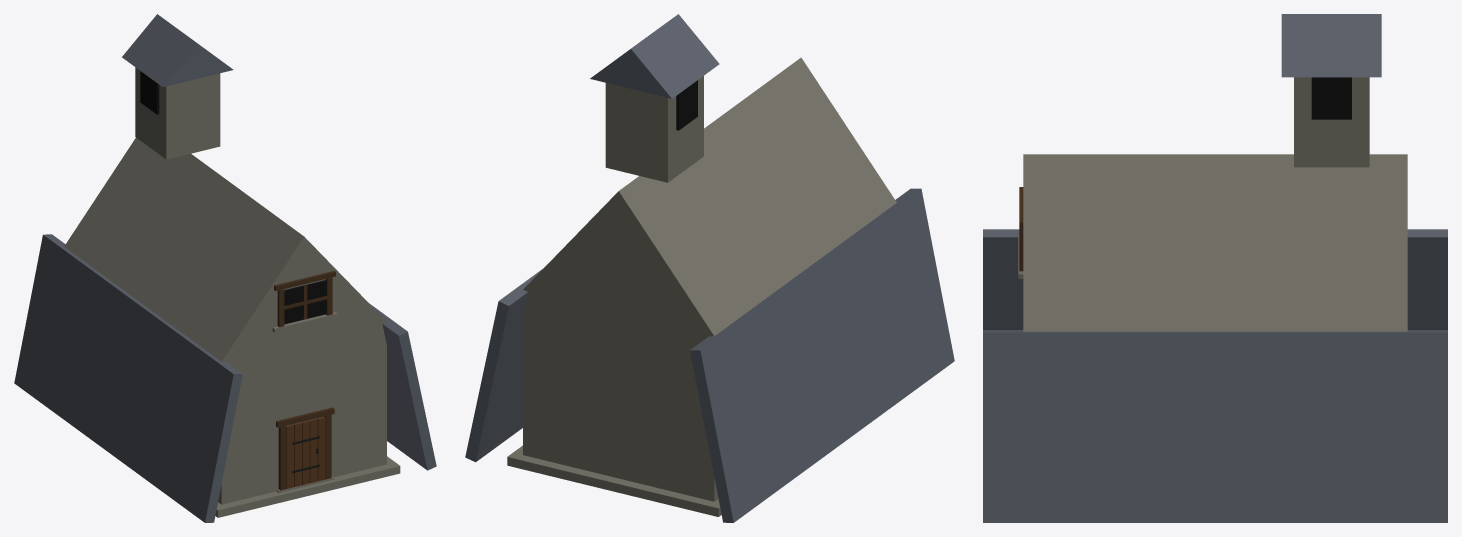
Rendered from house_chapel.obj.
The picture shows the model from 3 angles, left to right: view 1: azimuth 30°, elevation 25°; view 2: azimuth 150°, elevation 25°; view 3: azimuth 270°, elevation 25°; orthographic projection. The views are drawn at different scales.
Parts seen in each view (by area): view 1: house_chapel walls, house_chapel roof slope, house_chapel bellcote, house_chapel bellcote roof, house_chapel door plank, house_chapel footing, house_chapel east light recess, house_chapel door jamb, house_chapel bellcote opening, house_chapel east light jamb; view 2: house_chapel walls, house_chapel roof slope, house_chapel bellcote, house_chapel bellcote roof, house_chapel footing, house_chapel bellcote opening; view 3: house_chapel roof slope, house_chapel walls, house_chapel bellcote roof, house_chapel bellcote, house_chapel bellcote opening.
Boxes of the visible parts, x1,y1,x2,y2 form: house_chapel walls: (64,137,386,504); house_chapel roof slope: (14,234,436,522); house_chapel bellcote: (135,67,220,159); house_chapel bellcote roof: (122,14,233,86); house_chapel door plank: (286,417,325,488); house_chapel footing: (215,456,400,517); house_chapel east light recess: (284,280,326,324); house_chapel door jamb: (278,414,331,490); house_chapel bellcote opening: (140,71,159,114); house_chapel east light jamb: (277,277,332,327); house_chapel walls: (523,57,896,501); house_chapel roof slope: (465,188,954,522); house_chapel bellcote: (605,76,703,182); house_chapel bellcote roof: (590,14,719,98); house_chapel footing: (507,445,721,516); house_chapel bellcote opening: (676,80,697,130); house_chapel roof slope: (983,229,1447,522); house_chapel walls: (1023,154,1407,331); house_chapel bellcote roof: (1281,14,1381,77); house_chapel bellcote: (1294,77,1369,167); house_chapel bellcote opening: (1311,77,1351,119).
Size of the model in its own units: 645 by 986 by 920.
